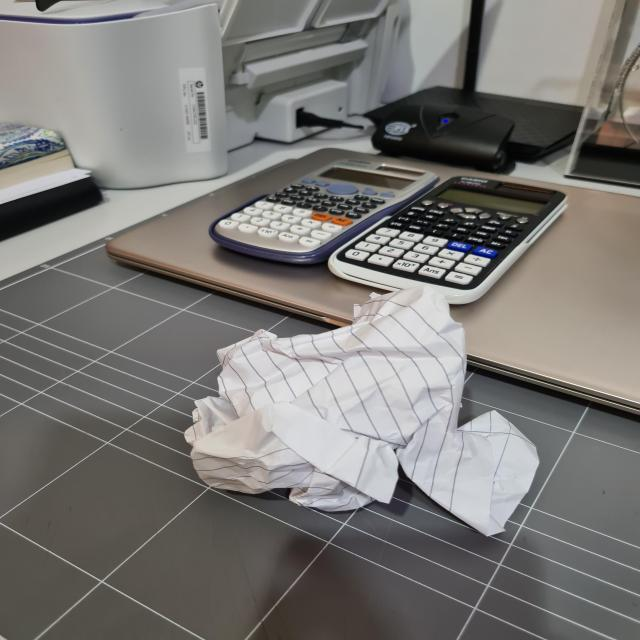cardboard paper: (184, 286, 537, 534)
